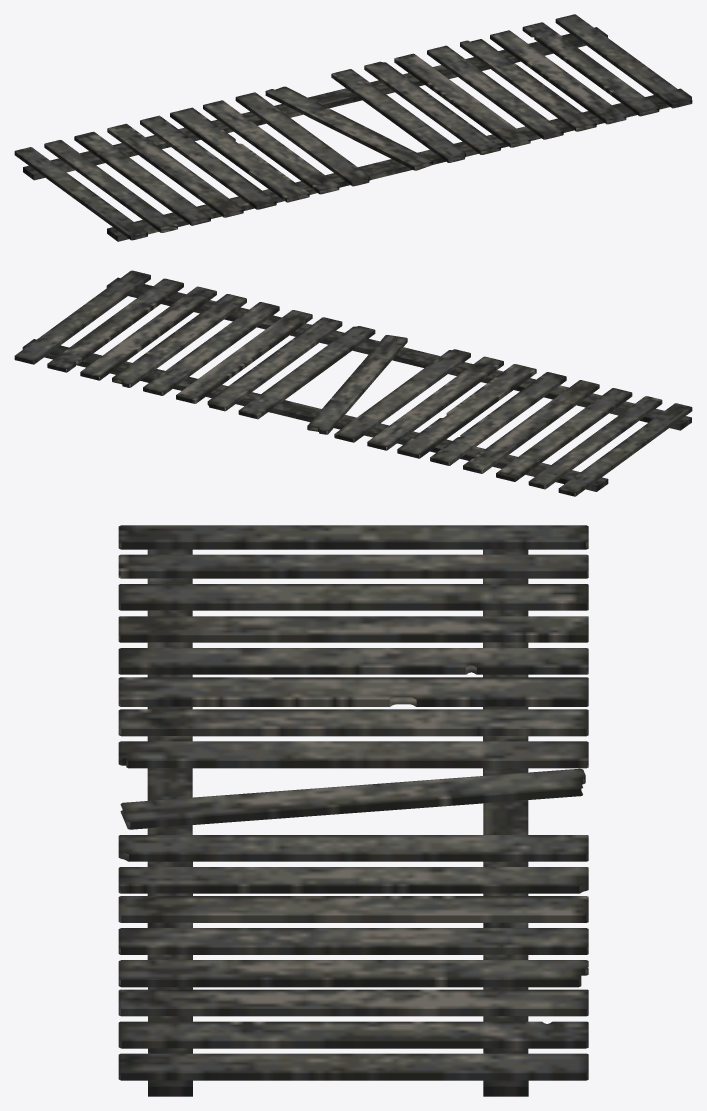
The model's file is SM_EC_Fence_02.fbx.
3 renders of one model, top to bottom at view 1: azimuth 30°, elevation 25°; view 2: azimuth 150°, elevation 25°; view 3: azimuth 270°, elevation 25°, orthographic. The views are drawn at different scales.
Visible parts, largest first — view 1: SM_EC_Fence_02; view 2: SM_EC_Fence_02; view 3: SM_EC_Fence_02.
Part boxes in pixels (box(x1,y1,x2,y2)): SM_EC_Fence_02: box(14, 14, 692, 241); SM_EC_Fence_02: box(14, 270, 692, 496); SM_EC_Fence_02: box(118, 525, 588, 1096).
Size of the model in its own units: 3 by 1.07 by 0.0425.
